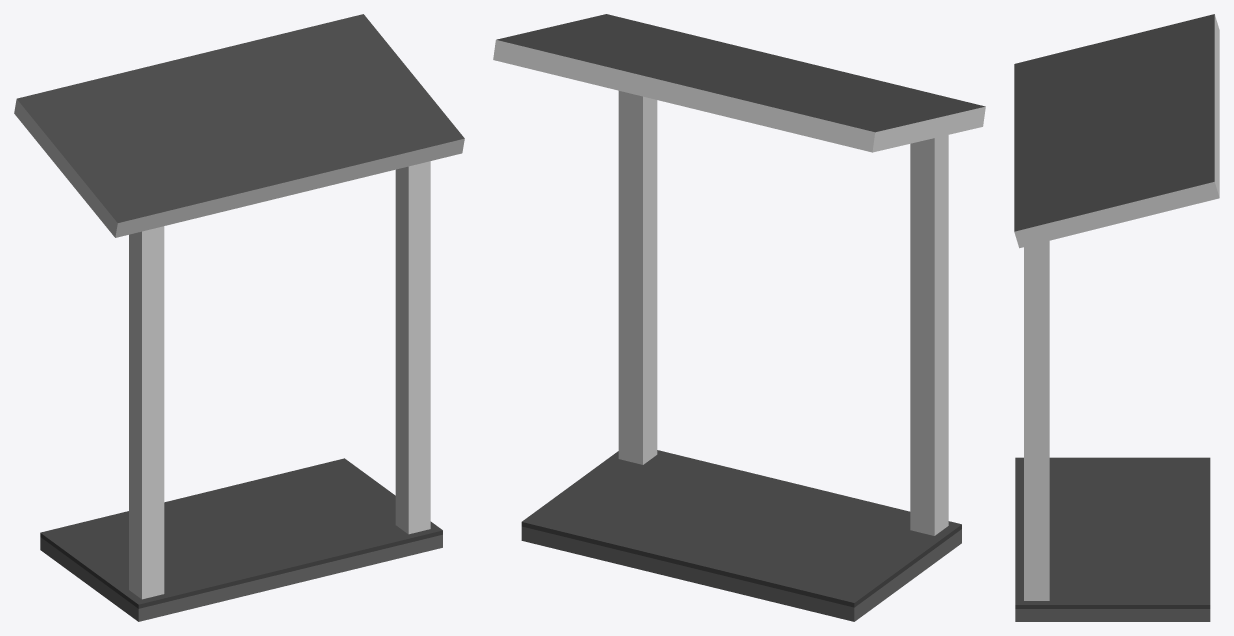
File: Terrace2_C3.fbx
The picture shows the model from 3 angles, left to right: view 1: azimuth 30°, elevation 25°; view 2: azimuth 150°, elevation 25°; view 3: azimuth 270°, elevation 25°; orthographic projection. The views are drawn at different scales.
Visible parts, largest first — view 1: Terrace2_C3; view 2: Terrace2_C3; view 3: Terrace2_C3.
Boxes of the visible parts, bbox=[...] form: Terrace2_C3: bbox=[14, 14, 464, 621]; Terrace2_C3: bbox=[493, 14, 985, 621]; Terrace2_C3: bbox=[1014, 14, 1219, 621].
Bounding box in the file's own units: 2.1 × 2.63 × 1.09.
